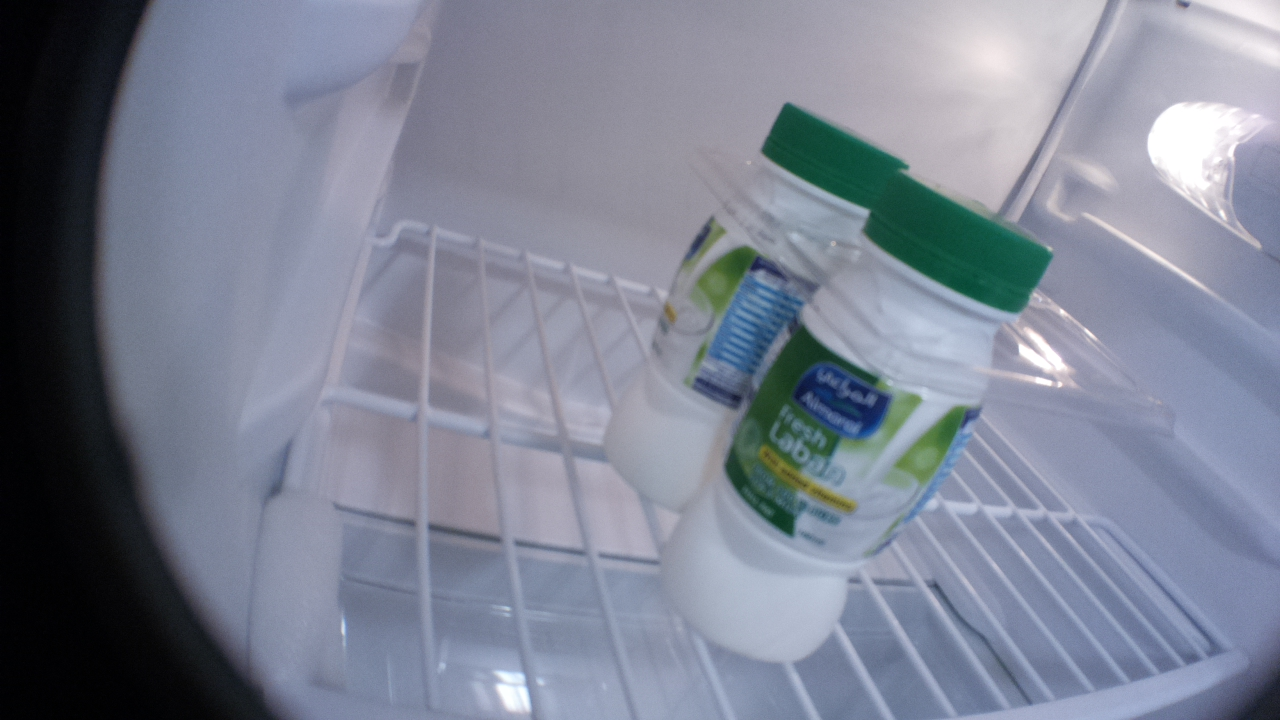laban: (662, 164, 1056, 659), (607, 100, 913, 514)
